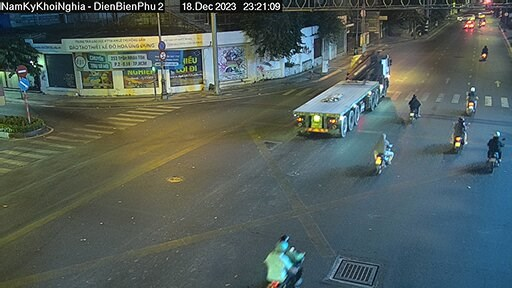motorbike: (264, 230, 312, 288), (366, 131, 396, 172), (447, 112, 473, 150), (485, 128, 505, 167), (405, 94, 427, 122), (465, 86, 478, 114)
truck: (282, 51, 397, 135)
